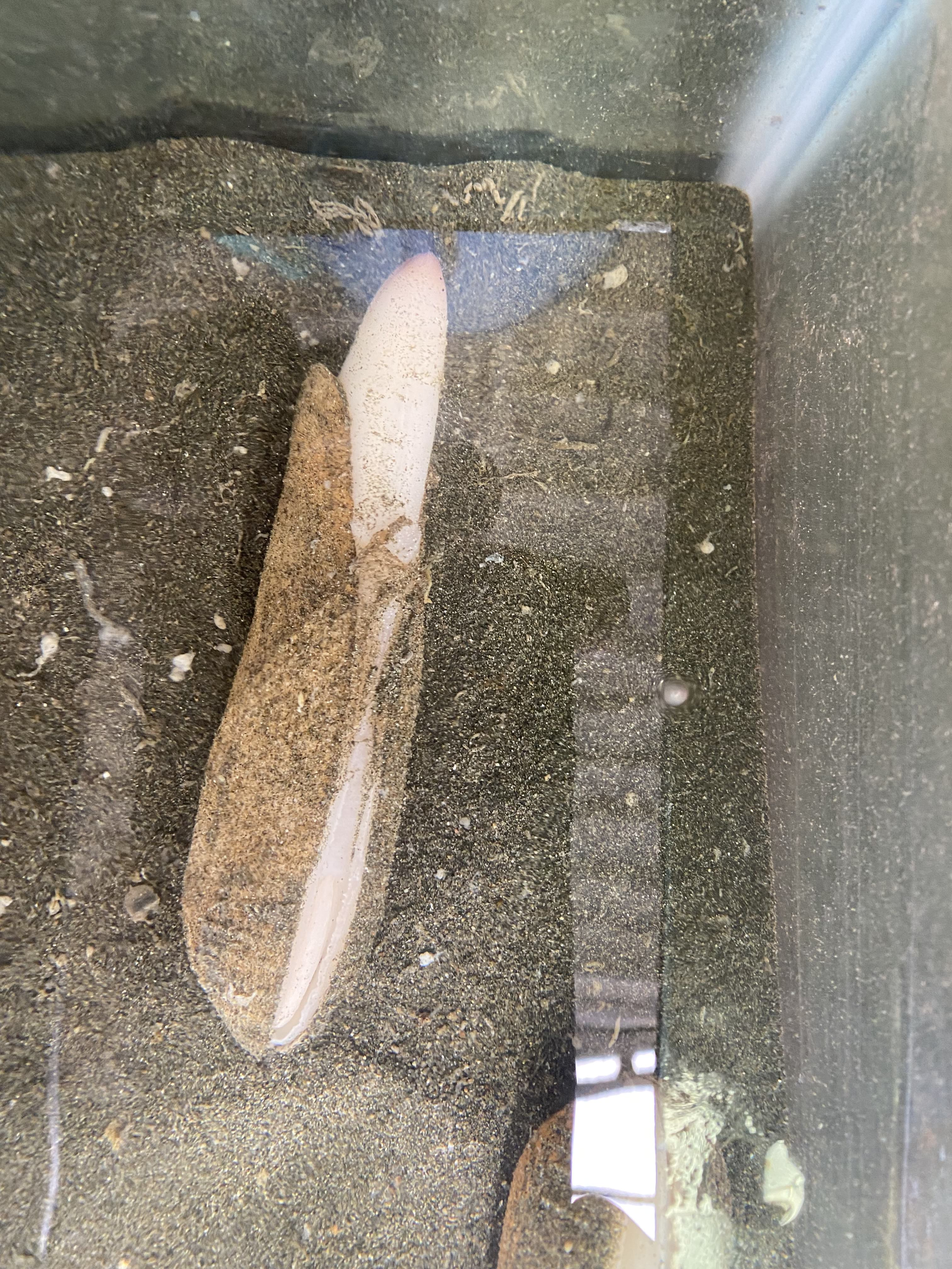Healthy: (182, 252, 447, 1056)
